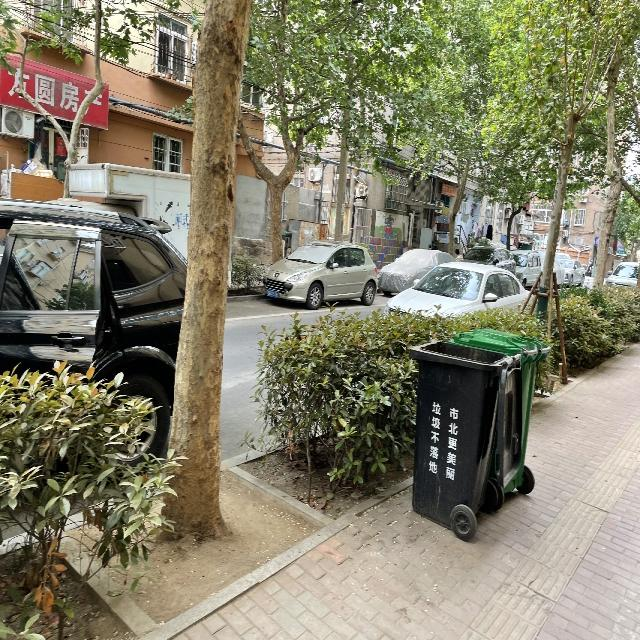garbage_bin: (407, 339, 520, 532), (448, 327, 548, 494)
